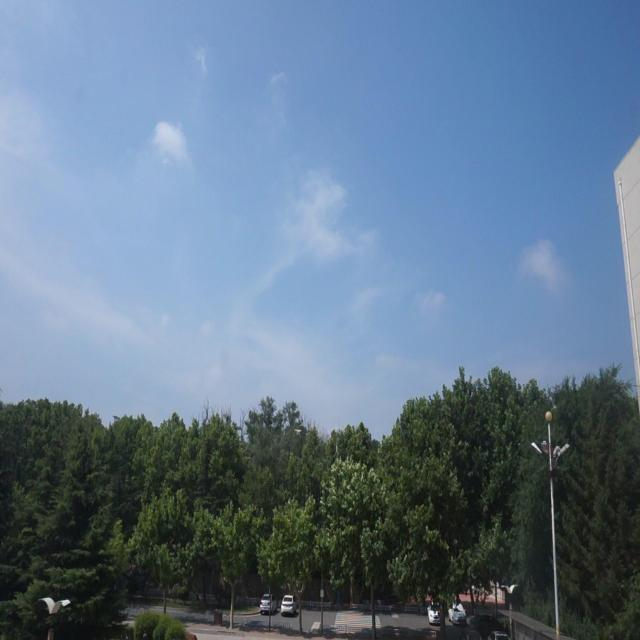drone: (294, 424, 303, 440)
